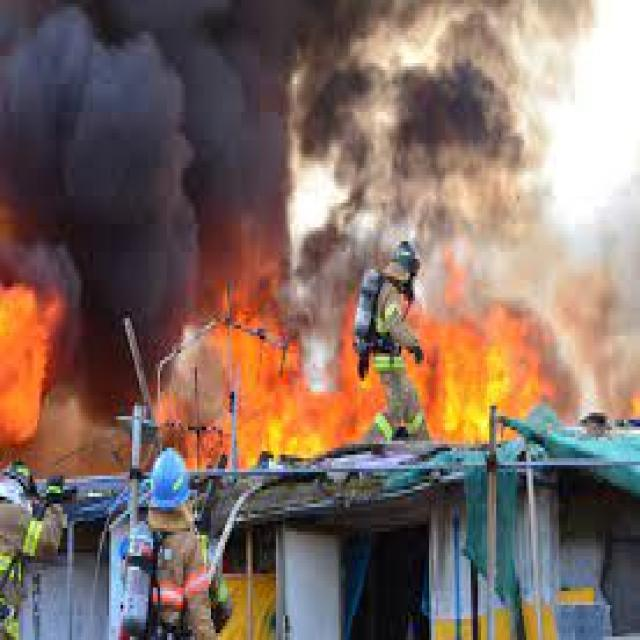Fire: (444, 340, 522, 428), (254, 398, 356, 449), (6, 315, 29, 430)
Smoke: (21, 23, 262, 244), (327, 12, 530, 188)
